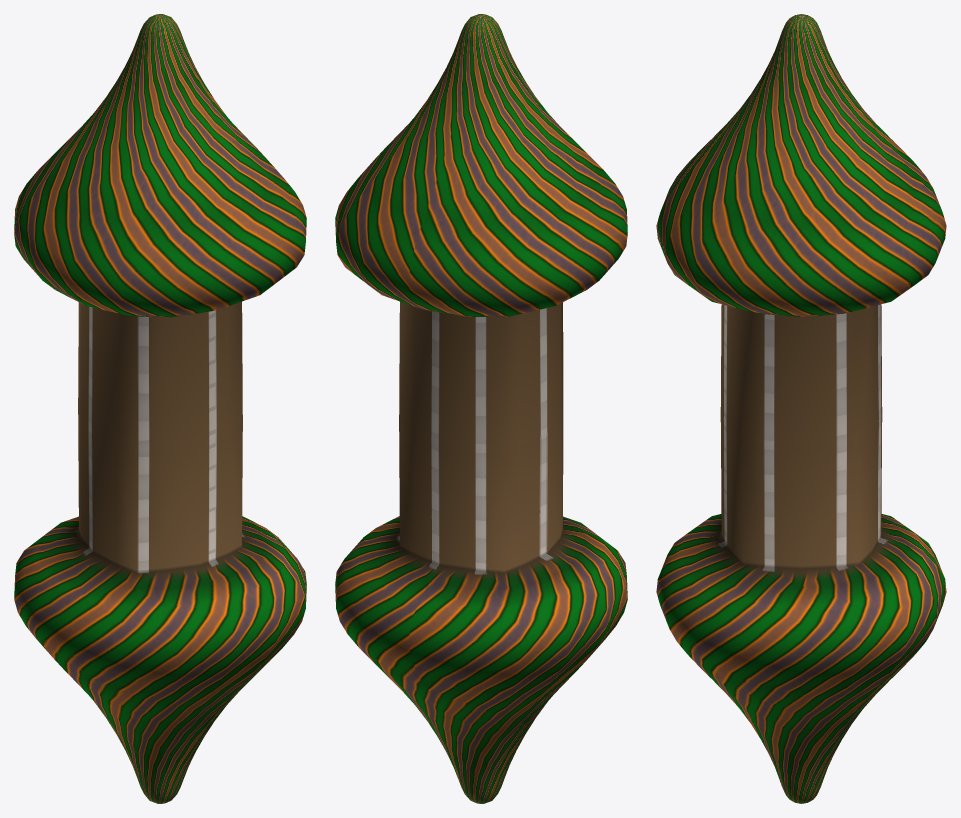
File: Zwiebel_A_02.fbx
3 renders of one model, left to right at view 1: azimuth 30°, elevation 25°; view 2: azimuth 150°, elevation 25°; view 3: azimuth 270°, elevation 25°, orthographic.
Visible parts, largest first — view 1: Zwiebel_A_02; view 2: Zwiebel_A_02; view 3: Zwiebel_A_02.
Boxes of the visible parts, x1,y1,x2,y2 form: Zwiebel_A_02: (14, 14, 306, 803); Zwiebel_A_02: (335, 14, 627, 803); Zwiebel_A_02: (656, 14, 946, 803).
Bounding box in the file's own units: 46.25 × 138 × 46.25.
